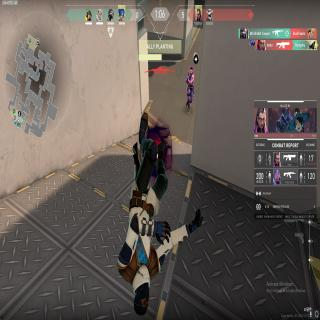ENEMY-HEAD: (189, 66, 193, 75)
